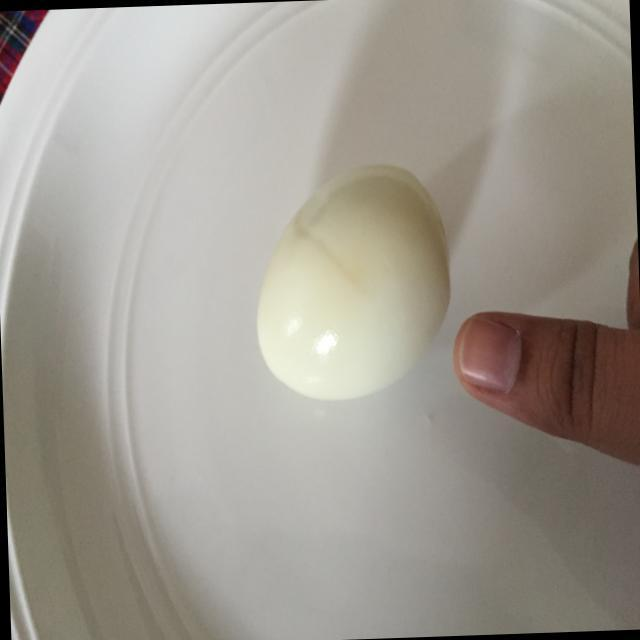Egg: (240, 154, 458, 408)
Finger: (448, 300, 606, 455)
